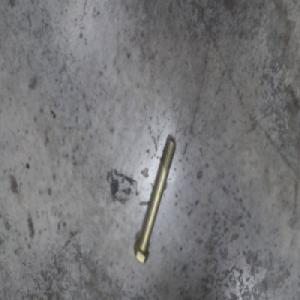Bolt: (133, 120, 175, 259)
